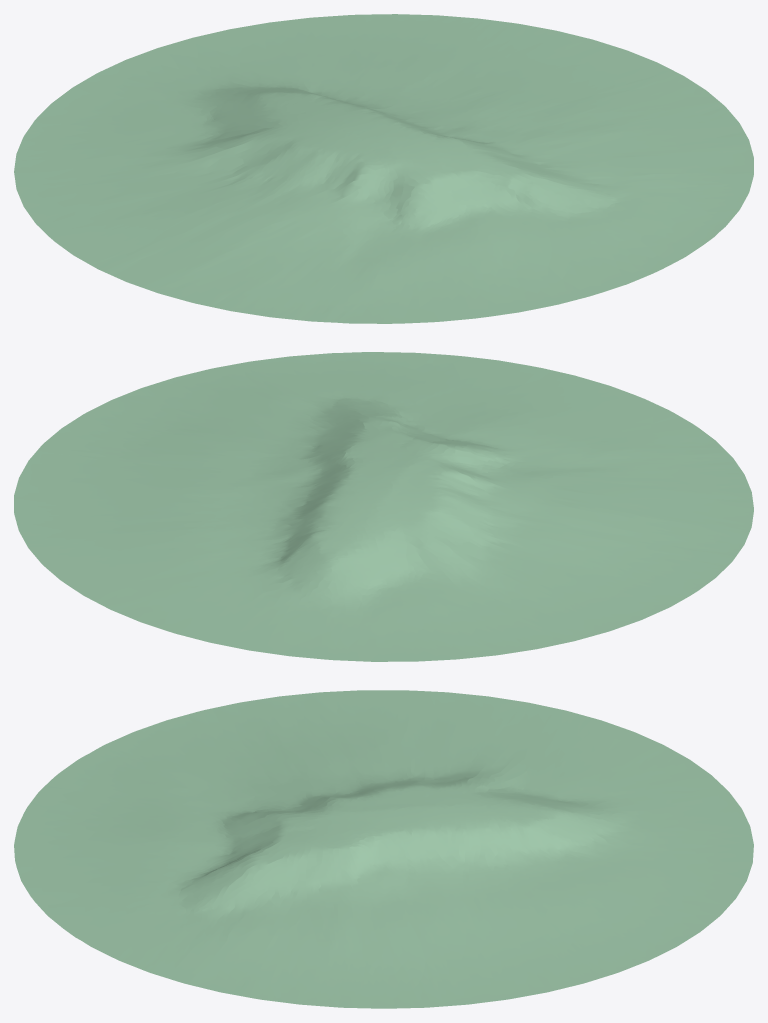
Rendered from island_coral_medium_C.fbx.
The picture shows the model from 3 angles, top to bottom: view 1: azimuth 30°, elevation 25°; view 2: azimuth 150°, elevation 25°; view 3: azimuth 270°, elevation 25°; orthographic projection.
Visible parts, largest first — view 1: island_coral_medium_C; view 2: island_coral_medium_C; view 3: island_coral_medium_C.
Boxes of the visible parts, x1,y1,x2,y2 form: island_coral_medium_C: (14,14,753,323); island_coral_medium_C: (14,352,753,661); island_coral_medium_C: (14,690,753,1008).
Size of the model in its own units: 10451 by 499 by 10259.
